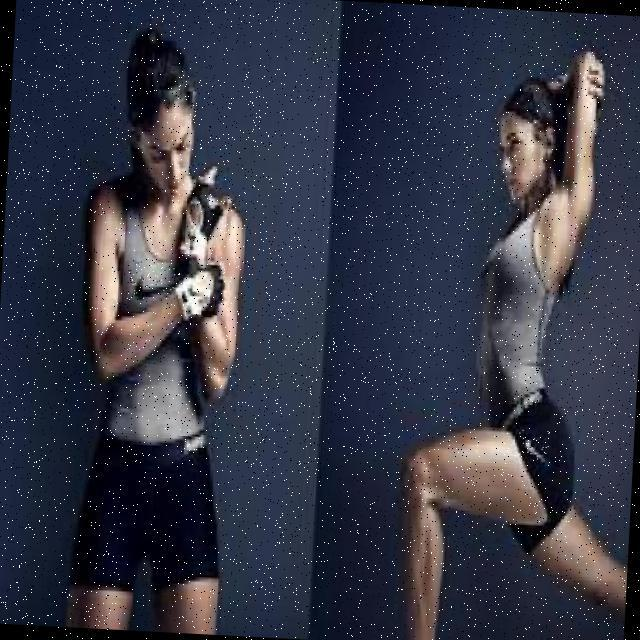Nike: (128, 260, 179, 302), (515, 429, 550, 467)
